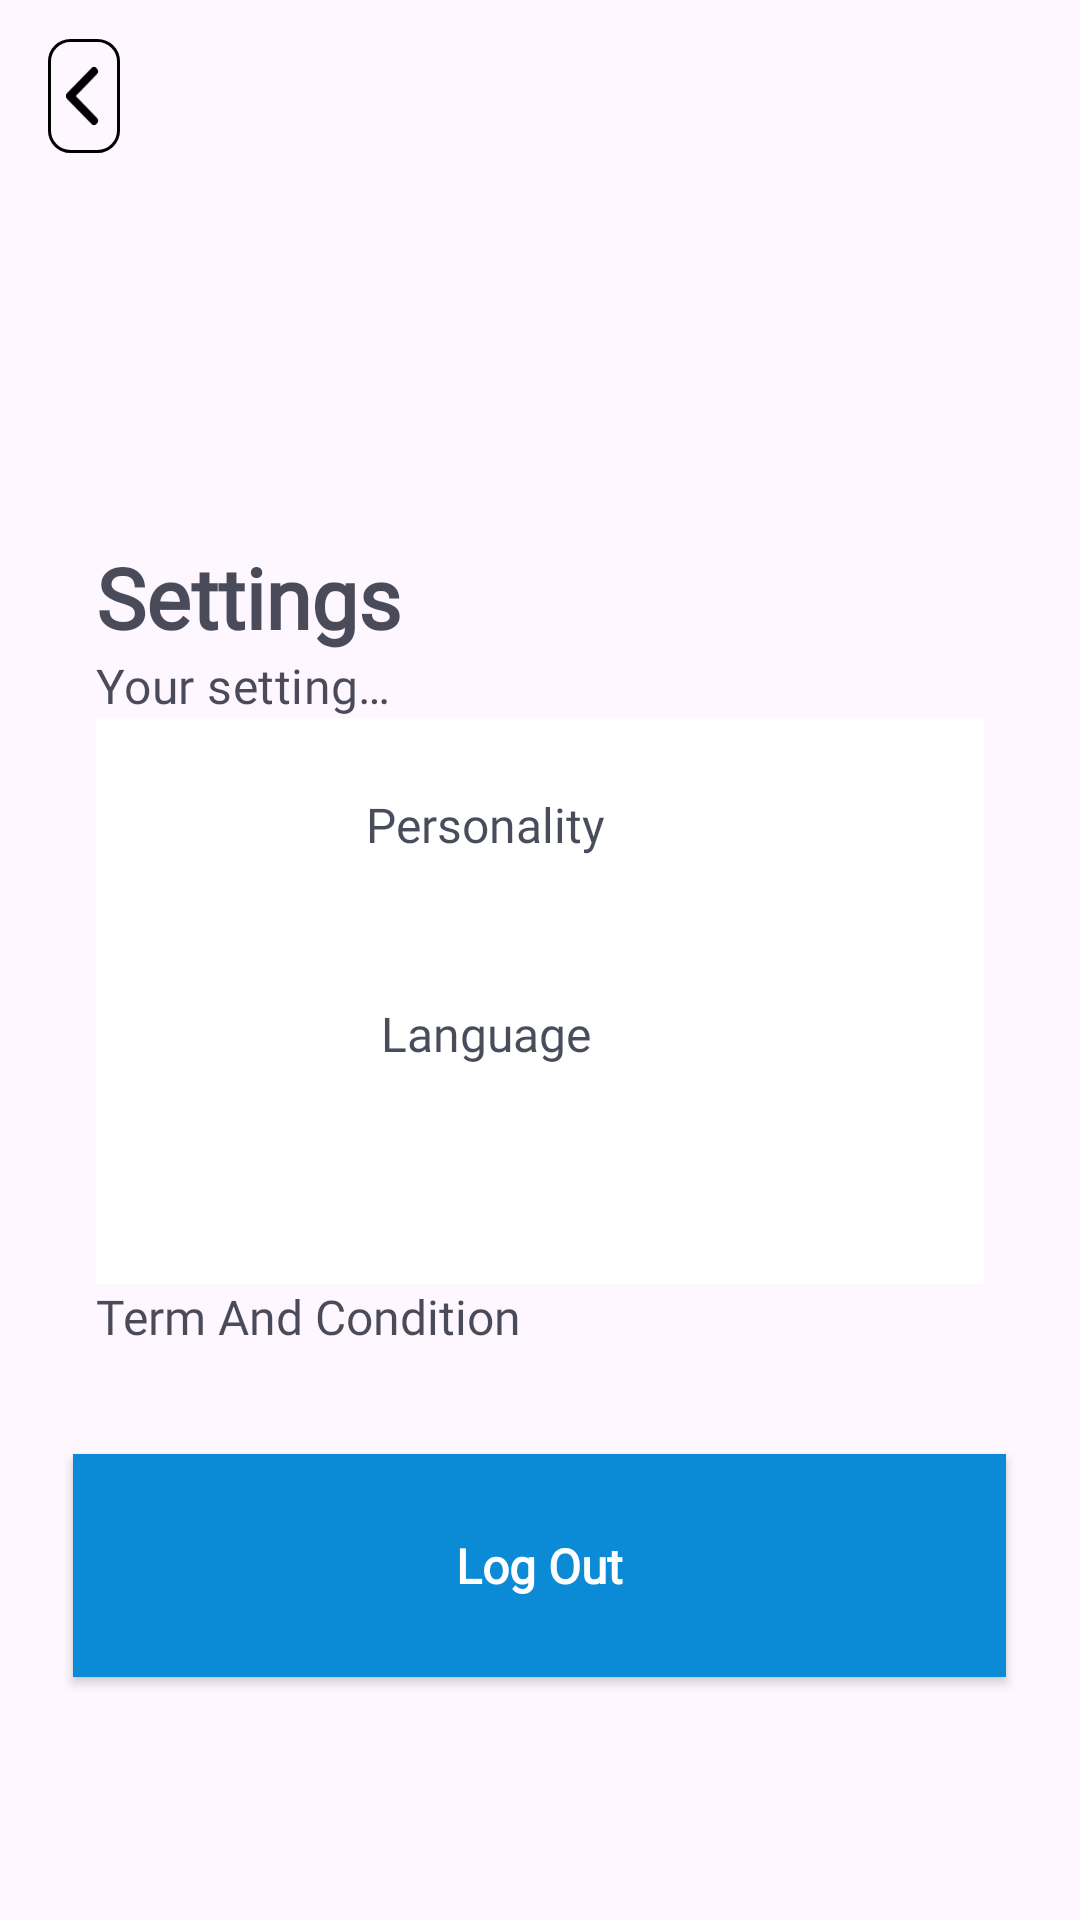

Named icons in this screenshot (1080 × 1920) and their centers, point (x, y):
arrow left: point (84, 96)
